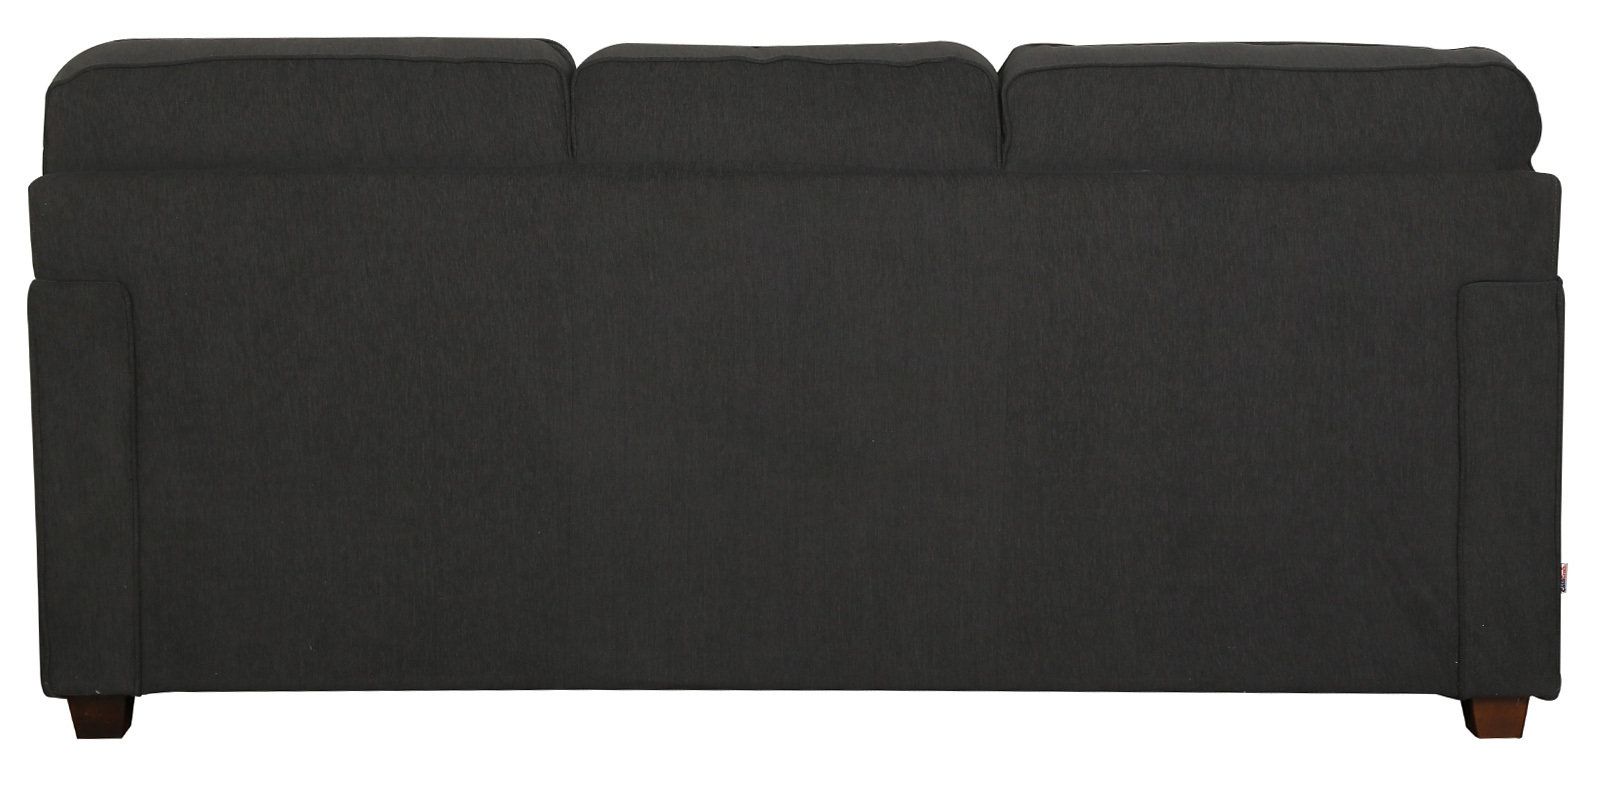Parana Three Seater Sofa in Charcoal Grey Color by CasaCraft: (23, 37, 1567, 741)
